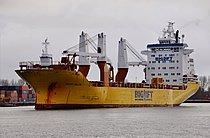Ship: (14, 20, 205, 111)
